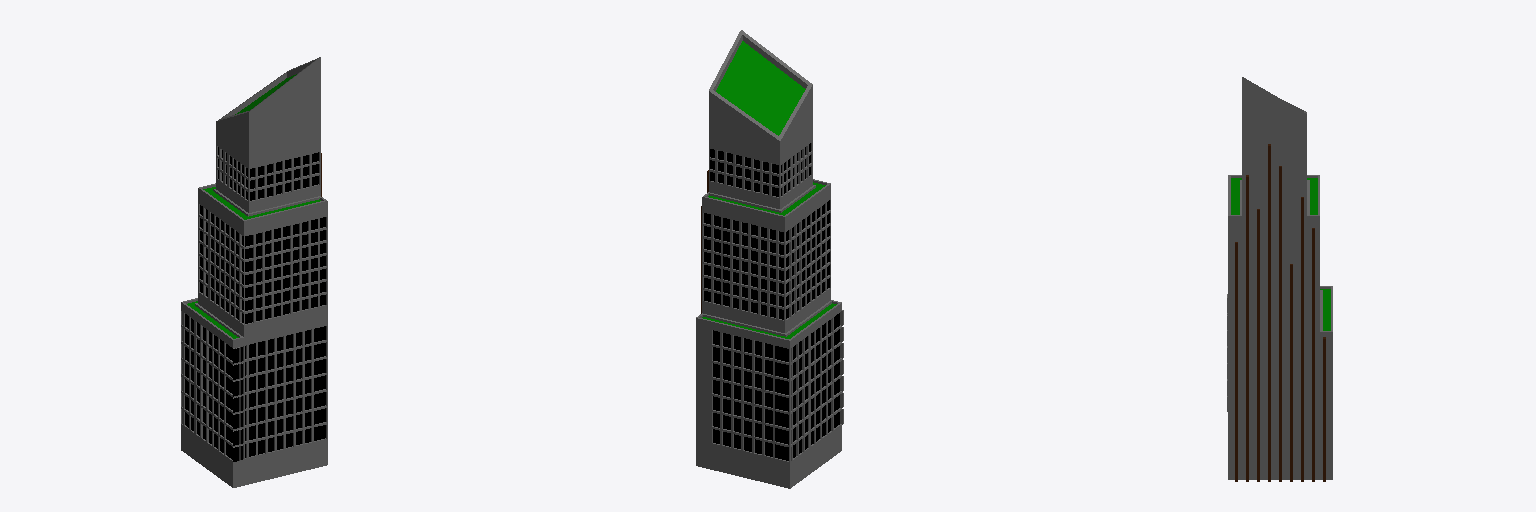
The model's file is Building1.obj.
3 views of the same model, side by side, from view 1: azimuth 30°, elevation 25°; view 2: azimuth 150°, elevation 25°; view 3: azimuth 270°, elevation 25° (orthographic).
Parts seen in each view (by area): view 1: Base, Window, Grass; view 2: Base, Window, Grass; view 3: Base, Details, Grass.
Part boxes in pixels (left/top/right/bottom): Base: left=181, top=57, right=327, bottom=487; Window: left=185, top=147, right=325, bottom=461; Grass: left=187, top=74, right=320, bottom=338; Base: left=696, top=30, right=843, bottom=488; Window: left=704, top=143, right=839, bottom=460; Grass: left=702, top=41, right=836, bottom=338; Base: left=1227, top=77, right=1332, bottom=479; Details: left=1235, top=144, right=1325, bottom=481; Grass: left=1231, top=178, right=1330, bottom=330.
Size of the model in its own units: 70.36 by 276 by 65.96.